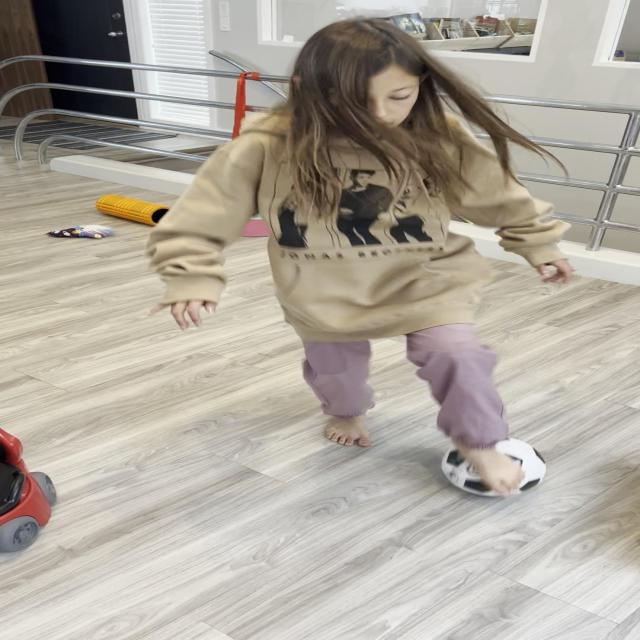Soccer Ball: (443, 437, 547, 497)
